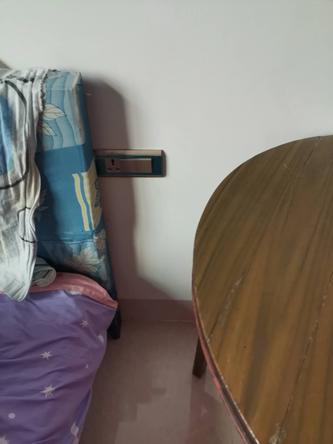switch: (121, 158, 153, 175)
